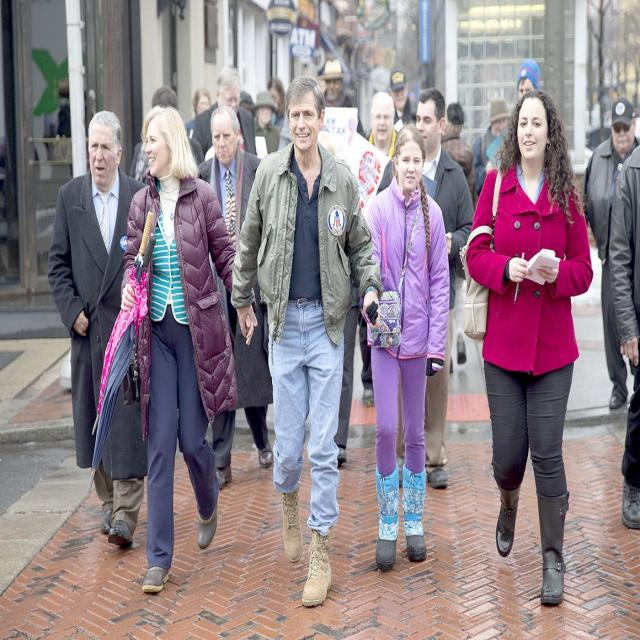body: (230, 74, 385, 612), (457, 89, 596, 608), (114, 103, 257, 600), (45, 109, 149, 554), (359, 123, 453, 577), (376, 88, 476, 488), (195, 102, 275, 492), (580, 98, 640, 410), (604, 138, 640, 529), (439, 101, 479, 375), (190, 67, 258, 162), (335, 277, 364, 470), (357, 88, 403, 195), (471, 99, 512, 201), (238, 75, 288, 154), (317, 58, 364, 136), (186, 86, 212, 177), (386, 68, 419, 132), (254, 91, 282, 157), (515, 56, 541, 104), (150, 81, 180, 114), (129, 139, 146, 180), (316, 126, 336, 156)
